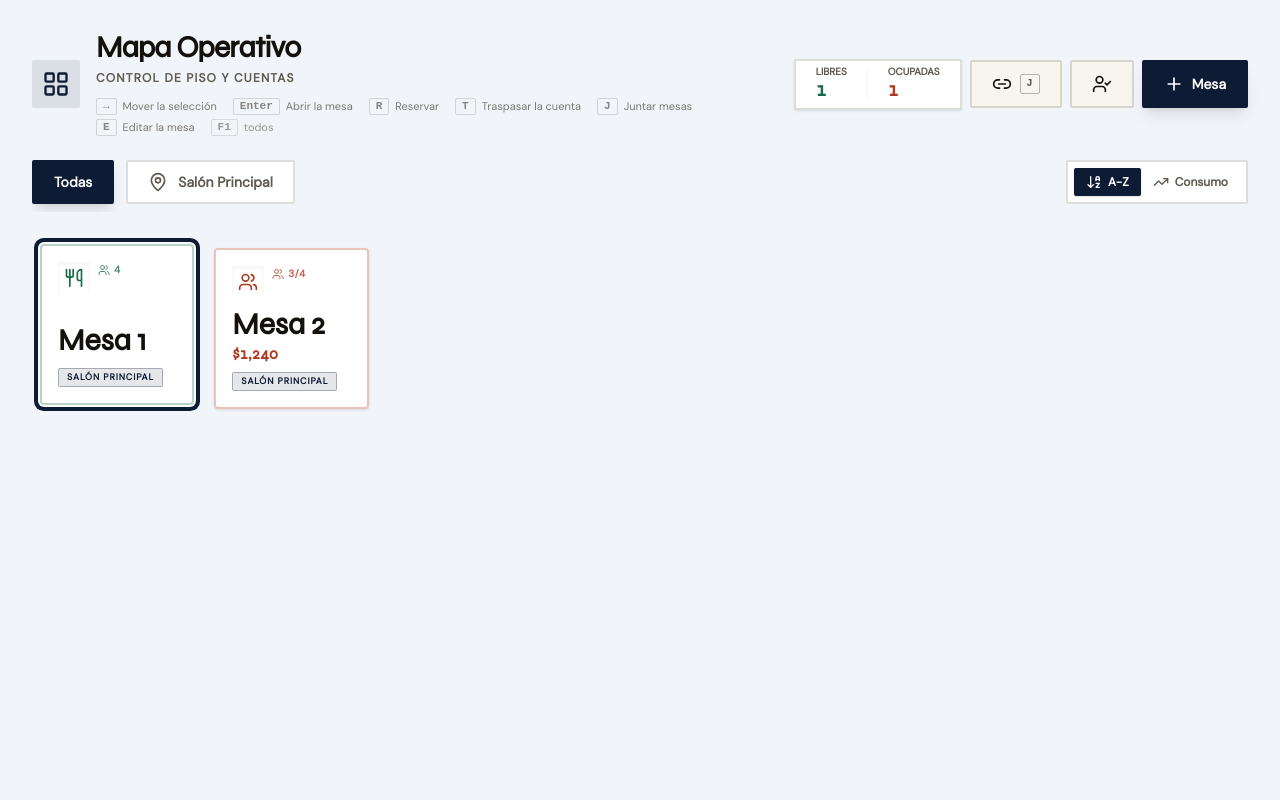
Scenario: figura estrecha — teléfono y tablet vertical › NO se queda sin inspector: era el defecto que se venía a arreglar
The image size is (1280, 800).
Click the button "3/4 Mesa 2 $1,240 Salón Principal" at [291, 328], box left=214, top=248, right=369, bottom=409
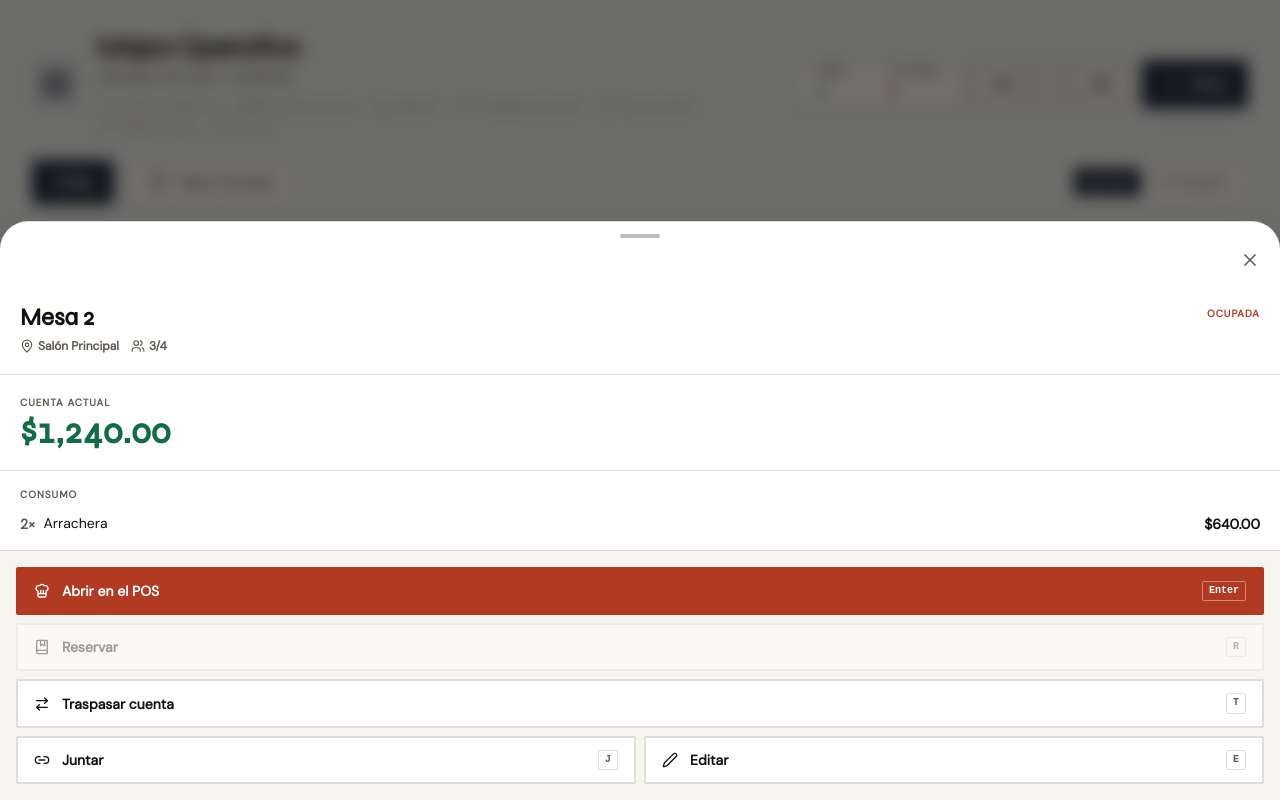
Now the dialog is shown
Now the dialog shows "Mesa 2", box left=20, top=303, right=94, bottom=332
Now the dialog shows "Arrachera", box left=44, top=514, right=108, bottom=532
